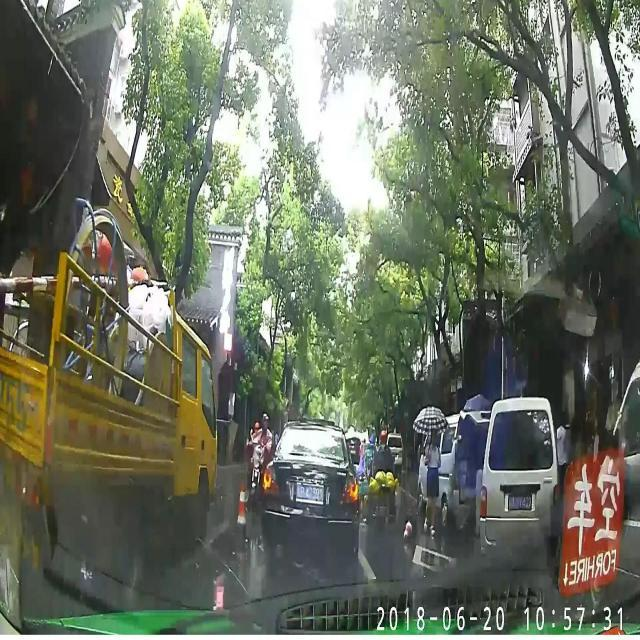car: (578, 362, 640, 614), (479, 397, 556, 572), (260, 422, 359, 556), (418, 412, 490, 528), (386, 432, 402, 476), (344, 437, 362, 463)
